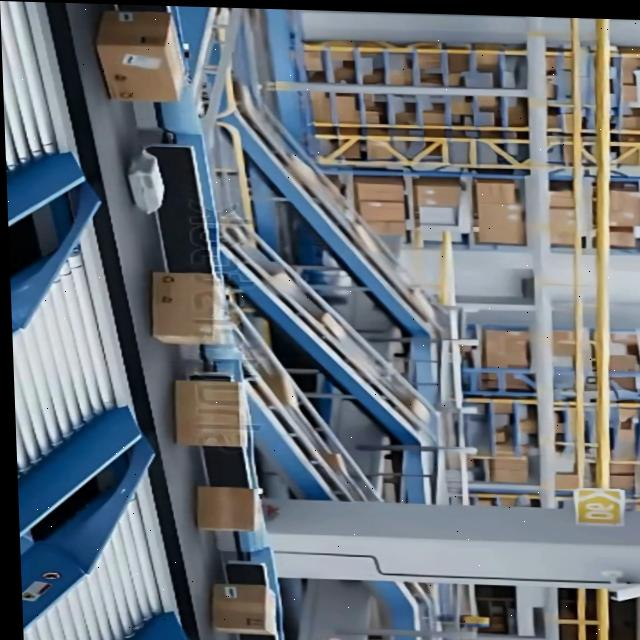product 1: (148, 270, 232, 346), (173, 379, 248, 447), (195, 484, 260, 532)
product 2: (125, 149, 168, 214)
